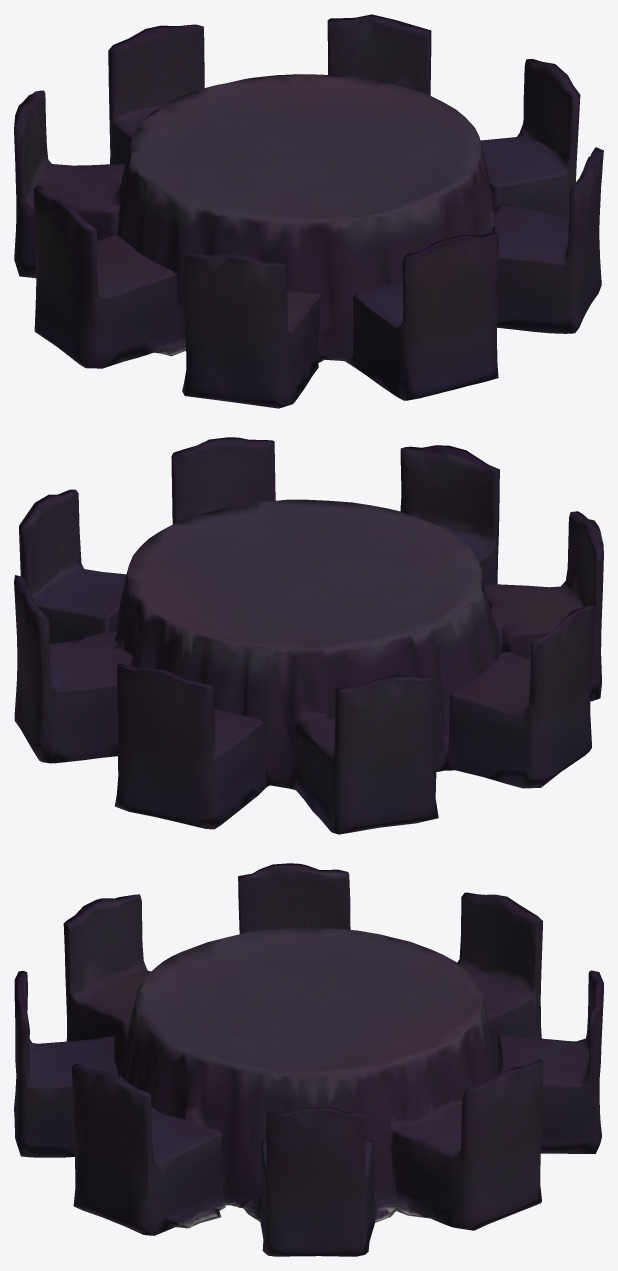
The model's file is meja_kursi_hitam.glb.
3 renders of one model, top to bottom at view 1: azimuth 30°, elevation 25°; view 2: azimuth 150°, elevation 25°; view 3: azimuth 270°, elevation 25°, orthographic. The views are drawn at different scales.
Parts seen in each view (by area): view 1: tripo_node_147e4dc6-0b15-496d-9336-84a73a7f5ab1; view 2: tripo_node_147e4dc6-0b15-496d-9336-84a73a7f5ab1; view 3: tripo_node_147e4dc6-0b15-496d-9336-84a73a7f5ab1.
Boxes of the visible parts, box(x1,y1,x2,y2) form: tripo_node_147e4dc6-0b15-496d-9336-84a73a7f5ab1: box(14, 14, 603, 408); tripo_node_147e4dc6-0b15-496d-9336-84a73a7f5ab1: box(14, 437, 603, 834); tripo_node_147e4dc6-0b15-496d-9336-84a73a7f5ab1: box(14, 863, 603, 1256).
Bounding box in the file's own units: 0.9985 × 0.283 × 1.
1 material, 1 textured.
